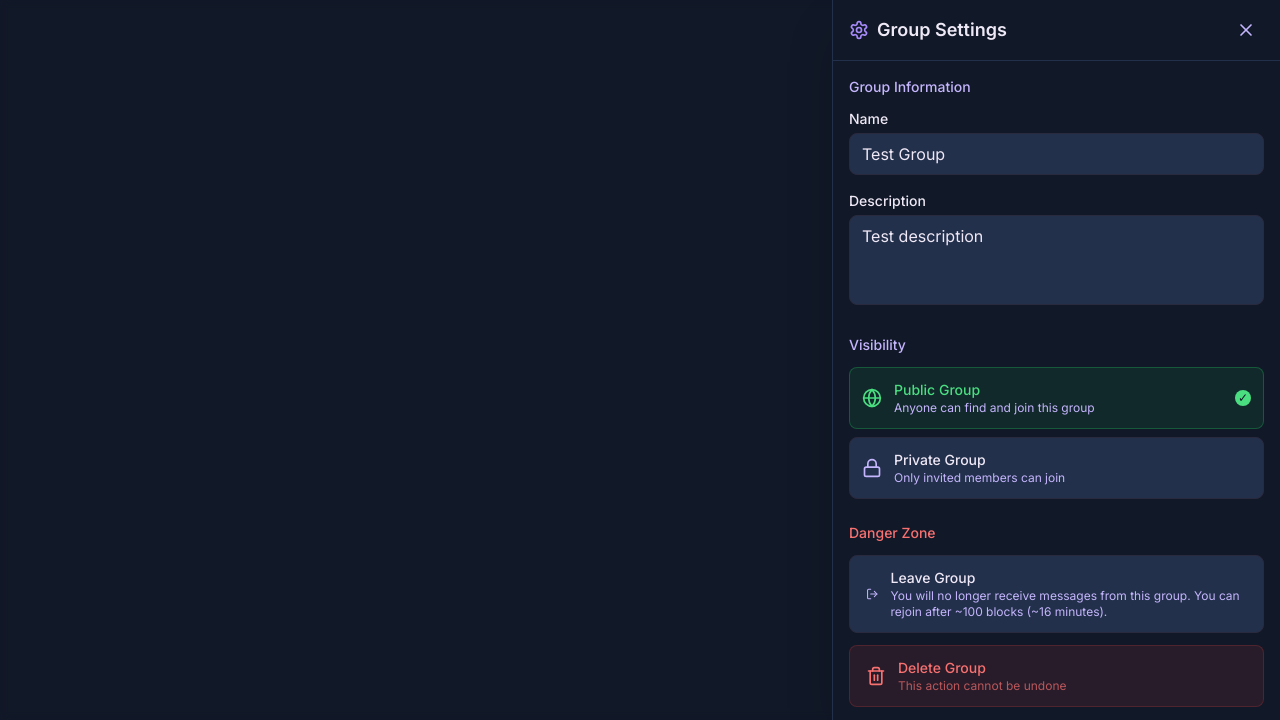
Test: GroupSettingsPanel › Delete Group (Admin) › should open strong confirmation dialog for delete
// Find the danger zone delete button (not the dialog one)
Click the button "Delete Group". click: (1056,676)
box: [849,645,1264,707]
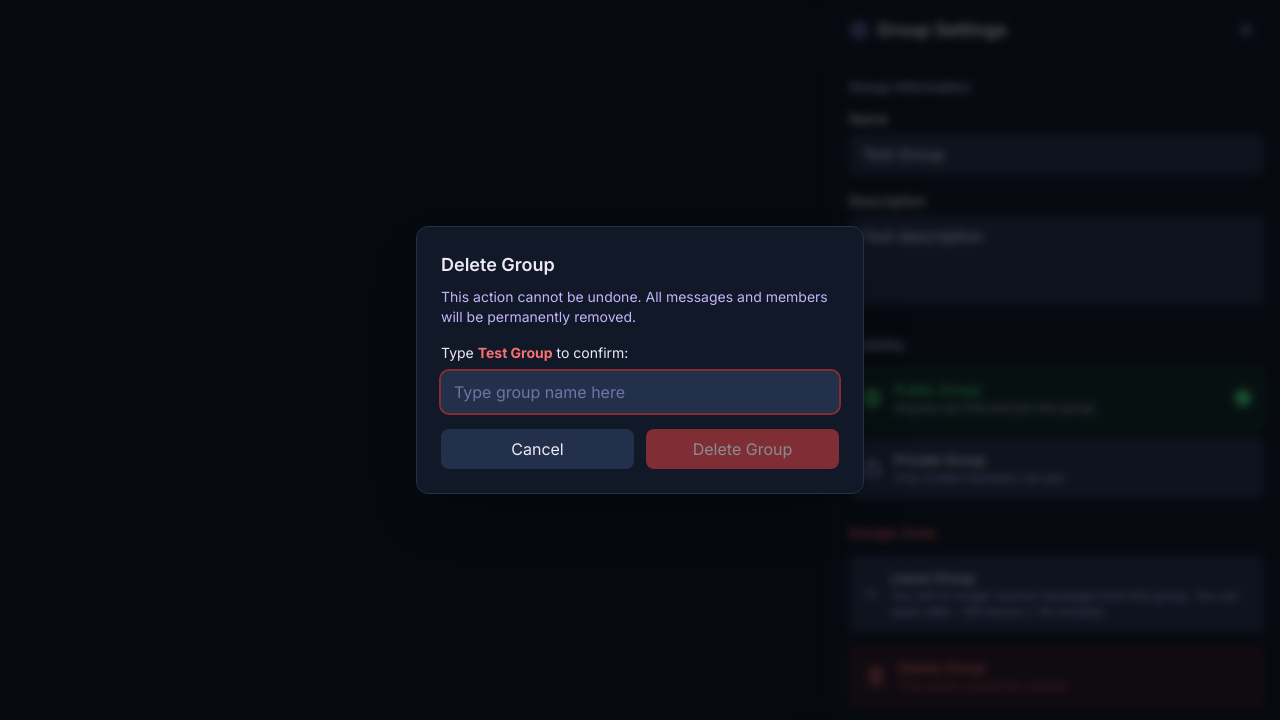
expect the dialog that starts with "Delete Group" is shown: met, box [416,226,864,494]
expect the text "all messages and members will be permanently removed" is shown: met, box [441,288,828,325]
